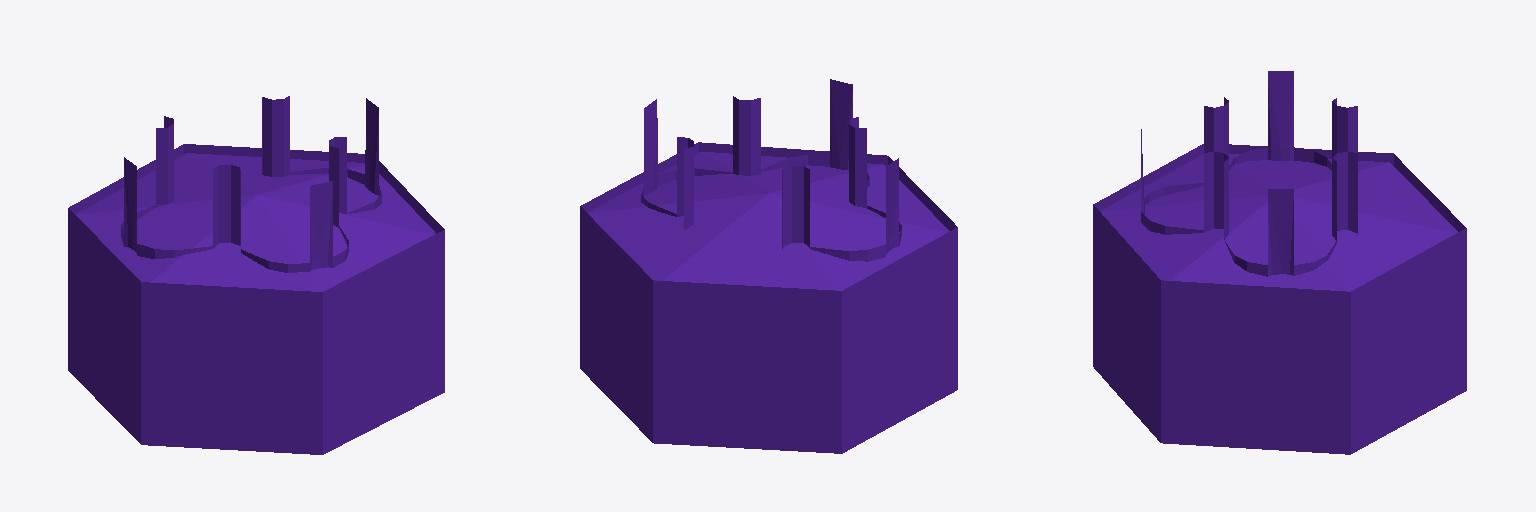
The picture shows the model from 3 angles: view 1: azimuth 30°, elevation 25°; view 2: azimuth 150°, elevation 25°; view 3: azimuth 270°, elevation 25°; orthographic projection.
Parts seen in each view (by area): view 1: group_0_ID4, group_0.001_ID23, SketchUp.1121_ID6002, SketchUp.955_ID4194, SketchUp.020_ID310, SketchUp.1105_ID5837, SketchUp.954_ID4179, SketchUp.948_ID4109, SketchUp.1167_ID6552; view 2: group_0_ID4, group_0.001_ID23, SketchUp.1105_ID5837, SketchUp.954_ID4179, SketchUp.020_ID310, SketchUp.1121_ID6002, SketchUp.955_ID4194, SketchUp.948_ID4109, SketchUp.1167_ID6552; view 3: group_0_ID4, group_0.001_ID23, SketchUp.1167_ID6552, SketchUp.948_ID4109, SketchUp.955_ID4194, SketchUp.954_ID4179, SketchUp.1105_ID5837, SketchUp.1121_ID6002.
Boxes of the visible parts, x1,y1,x2,y2 form: group_0_ID4: [68, 144, 444, 454]; group_0.001_ID23: [75, 153, 435, 291]; SketchUp.1121_ID6002: [213, 165, 240, 248]; SketchUp.955_ID4194: [262, 96, 289, 176]; SketchUp.020_ID310: [310, 181, 332, 270]; SketchUp.1105_ID5837: [156, 116, 173, 230]; SketchUp.954_ID4179: [329, 137, 346, 227]; SketchUp.948_ID4109: [365, 98, 378, 195]; SketchUp.1167_ID6552: [124, 157, 136, 252]; group_0_ID4: [580, 142, 957, 453]; group_0.001_ID23: [588, 152, 949, 290]; SketchUp.1105_ID5837: [782, 166, 849, 249]; SketchUp.954_ID4179: [733, 96, 760, 175]; SketchUp.020_ID310: [830, 79, 852, 169]; SketchUp.1121_ID6002: [849, 117, 866, 207]; SketchUp.955_ID4194: [677, 137, 693, 229]; SketchUp.948_ID4109: [644, 99, 657, 195]; SketchUp.1167_ID6552: [886, 158, 898, 253]; group_0_ID4: [1093, 144, 1466, 454]; group_0.001_ID23: [1100, 153, 1457, 291]; SketchUp.1167_ID6552: [1268, 71, 1293, 160]; SketchUp.948_ID4109: [1268, 189, 1293, 275]; SketchUp.955_ID4194: [1332, 151, 1357, 240]; SketchUp.954_ID4179: [1204, 151, 1228, 238]; SketchUp.1105_ID5837: [1332, 98, 1357, 157]; SketchUp.1121_ID6002: [1204, 97, 1228, 156].
Bounding box in the file's own units: 8.9 × 6.94 × 9.44.